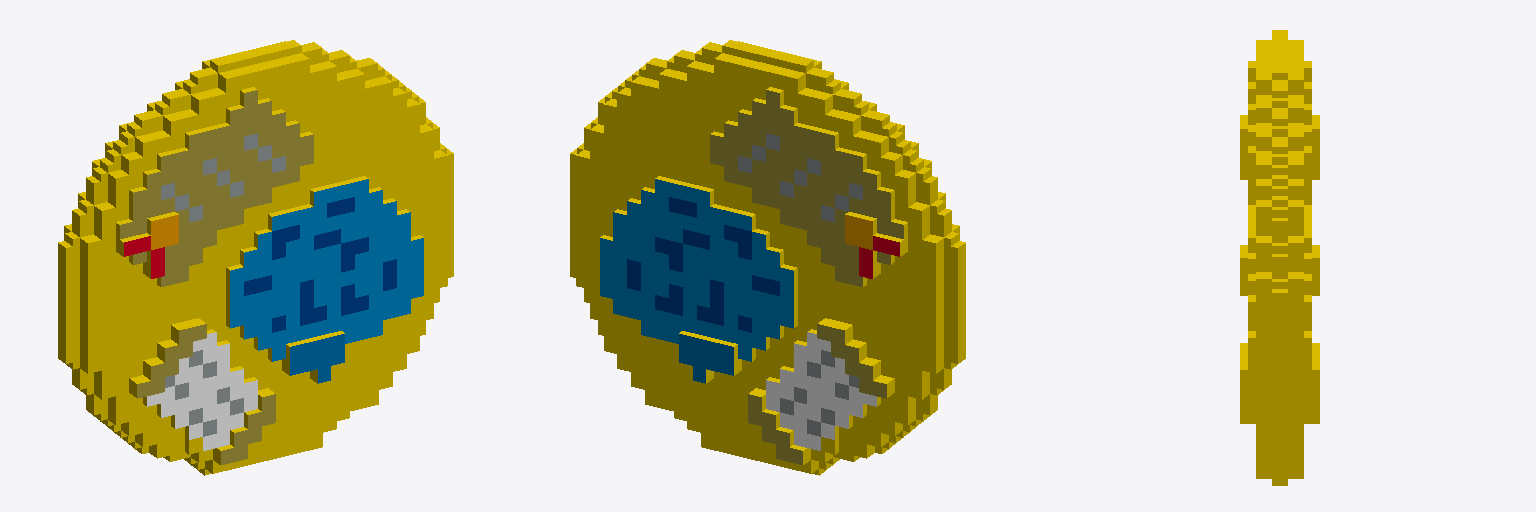
3 views of the same model, side by side, from view 1: azimuth 30°, elevation 25°; view 2: azimuth 150°, elevation 25°; view 3: azimuth 270°, elevation 25° (orthographic).
Size of the model in its own units: 28 by 28 by 5.
Materials: 1 (1 with a texture image).